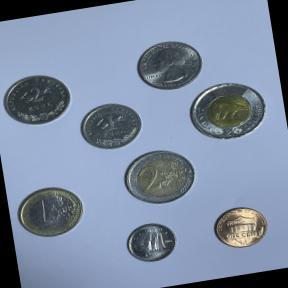1 Euro: (9, 179, 91, 245)
2 Euro: (116, 141, 202, 213)
Canda-10cent-: (120, 216, 184, 270)
Canda-2Dollar-: (184, 76, 272, 147)
Croatia-2Kune-: (0, 66, 76, 131)
US-1cent-: (208, 200, 274, 254)
US-25cent-: (130, 34, 208, 96)
